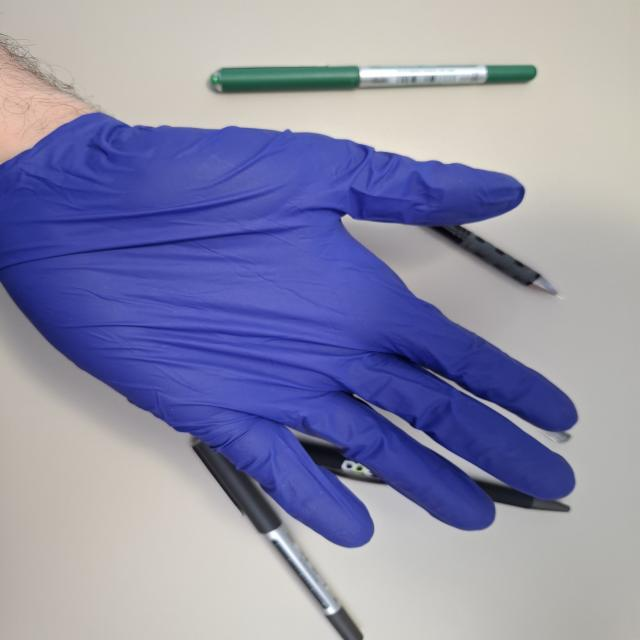glove_on: (0, 100, 582, 552)
